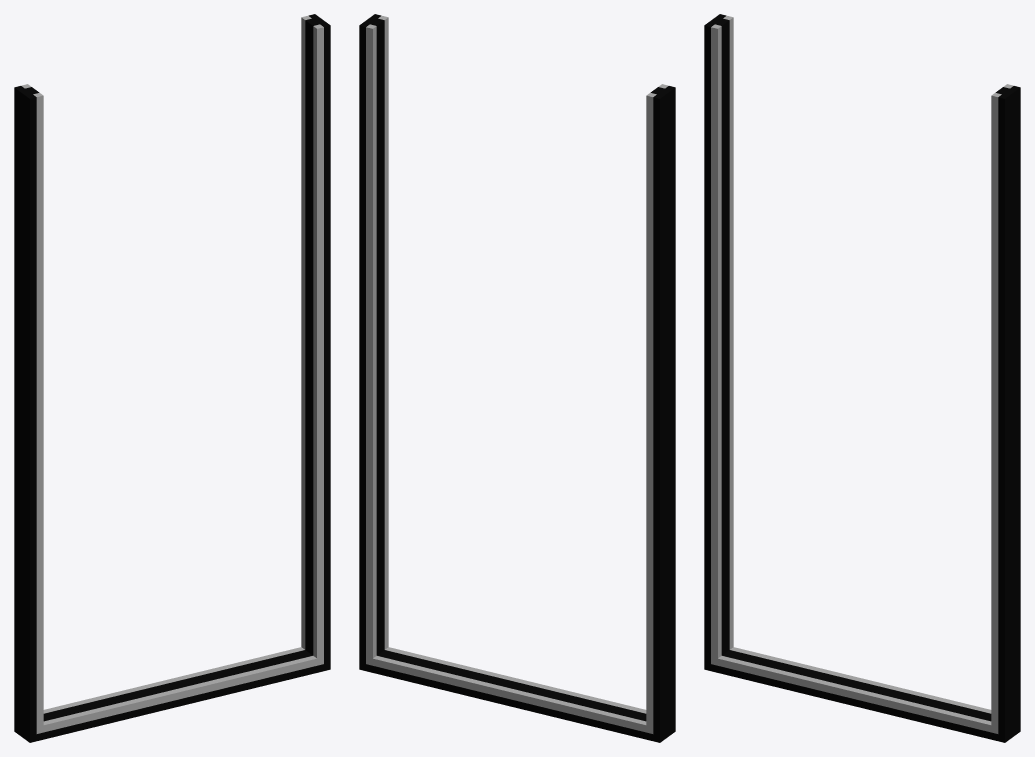
The model's file is ThinTetrisFrame.fbx.
The picture shows the model from 3 angles, left to right: view 1: azimuth 30°, elevation 25°; view 2: azimuth 150°, elevation 25°; view 3: azimuth 330°, elevation 25°; orthographic projection.
Parts seen in each view (by area): view 1: Cube; view 2: Cube; view 3: Cube.
Part boxes in pixels (x1,y1,x2,y2): Cube: [14, 14, 330, 742]; Cube: [359, 14, 675, 742]; Cube: [704, 14, 1020, 742].
Bounding box in the file's own units: 2200 × 4500 × 200.
